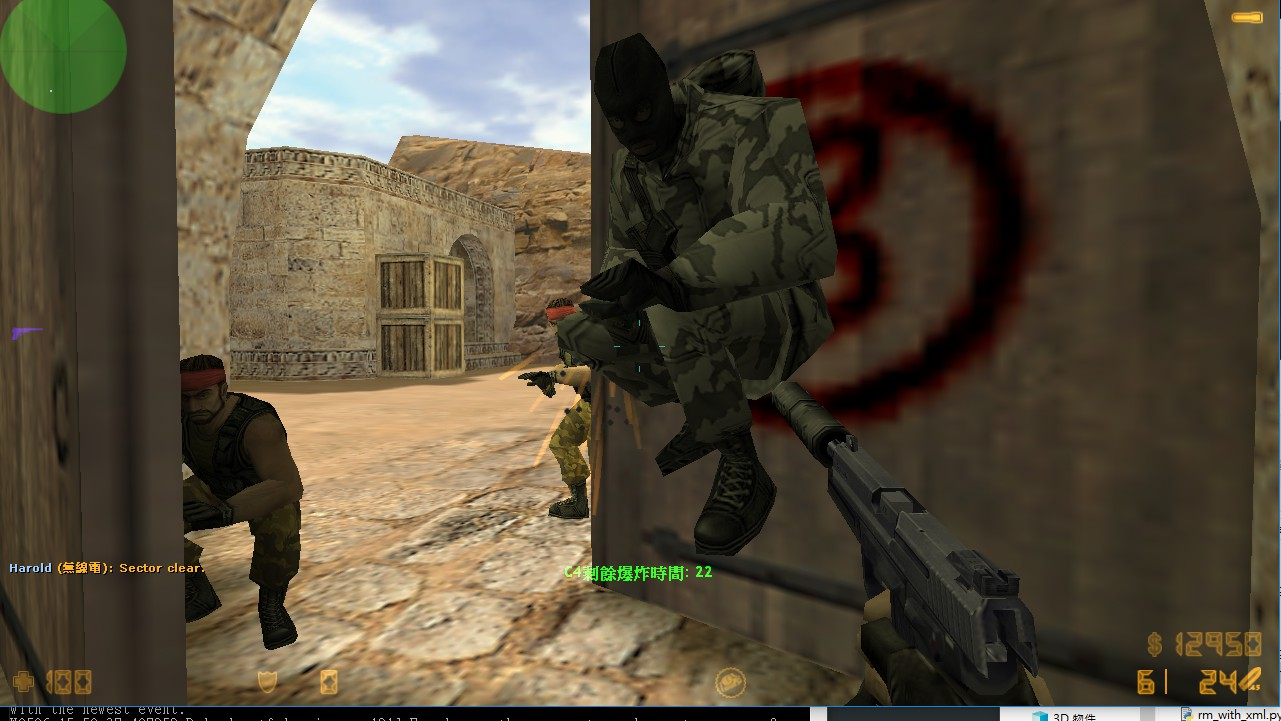person: (560, 53, 852, 557), (183, 345, 313, 656), (519, 293, 600, 531)
